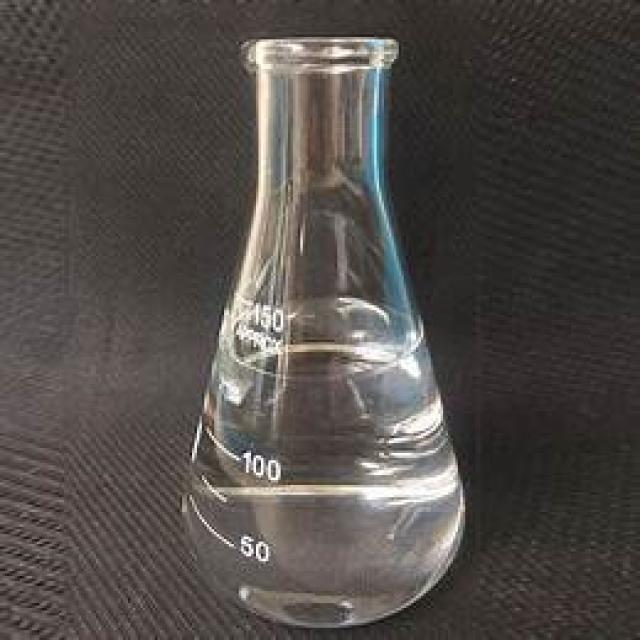Titrarion: (178, 30, 470, 627)
